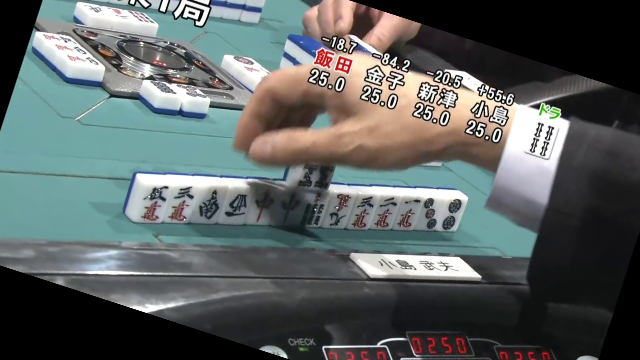Tehai: (126, 159, 467, 241)
